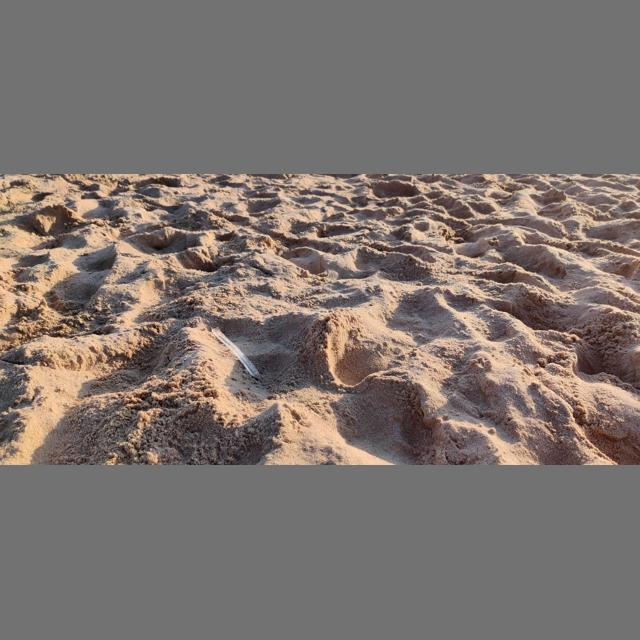litter: (212, 327, 259, 378)
